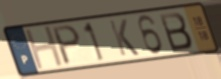1: (82, 21, 106, 63)
6: (137, 13, 165, 56)
B: (157, 10, 194, 53)
H: (23, 24, 67, 72)
K: (107, 18, 142, 58)
P: (51, 23, 83, 68)
